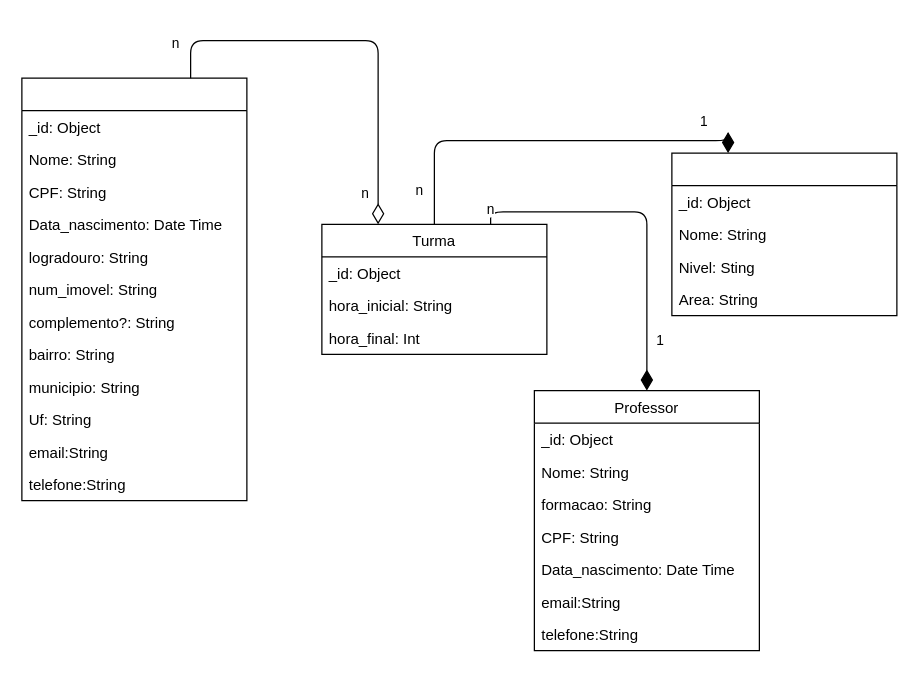
Image size: 919x676. Some labels were removed from this diagram. Here are the shapes that lost their labels. From the top down, the box of each, then its label:
(671, 152, 897, 316): Curso
(21, 77, 247, 501): Aluno
